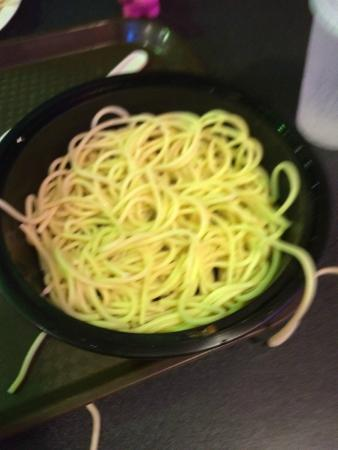plain spaghetti: (44, 133, 270, 313)
